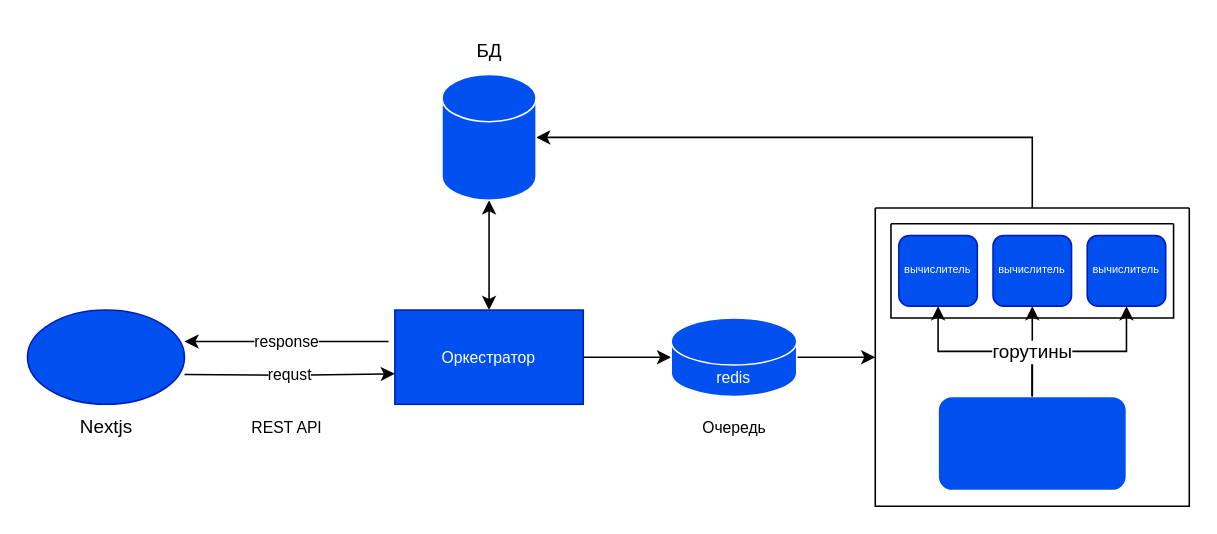
The diagram is 1217 pixels wide and 534 high, and some of its shapes have lost their labels. Here are the shapes that lost their labels. From the top down, the centre of each, then its label:
point (488, 136): postgresql
point (105, 356): Пользователь
point (1031, 443): Агент
